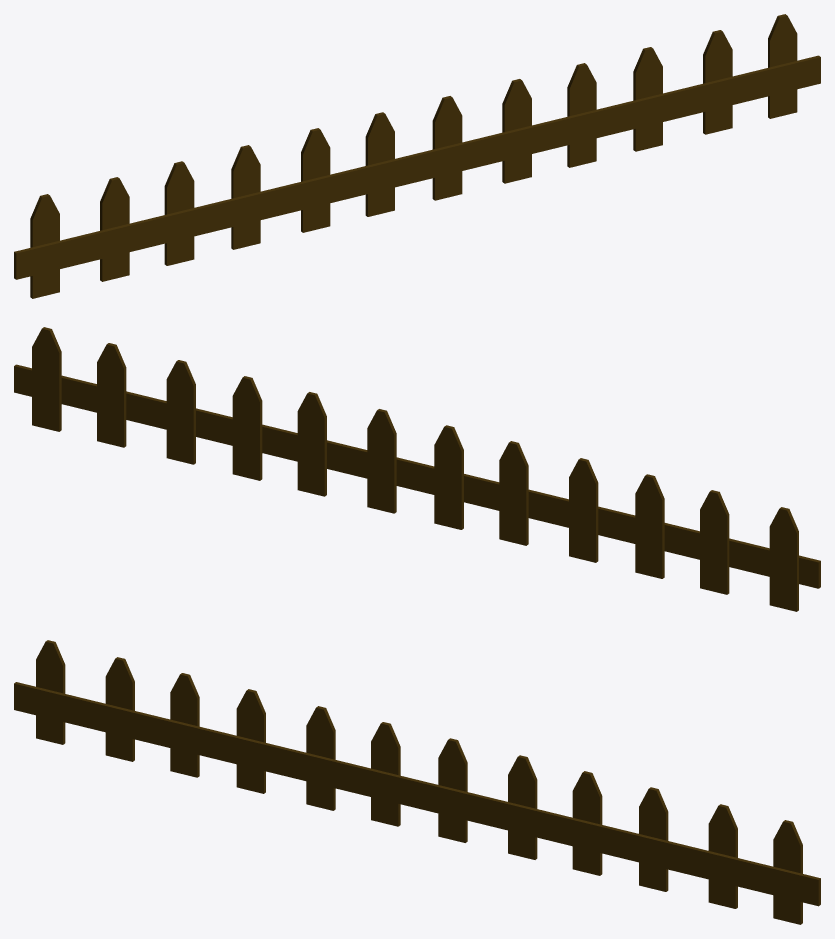
Rendered from Fencepieces.fbx.
3 views of the same model, one above another, from view 1: azimuth 30°, elevation 25°; view 2: azimuth 150°, elevation 25°; view 3: azimuth 330°, elevation 25° (orthographic).
Parts seen in each view (by area): view 1: doorpanel12 (×4), doorpanel15 (×4), doorpanel13 (×4), doorpanel14 (×4); view 2: doorpanel12 (×4), doorpanel13 (×4), doorpanel14 (×4), doorpanel15 (×4); view 3: doorpanel12 (×4), doorpanel13 (×4), doorpanel14 (×4), doorpanel15 (×4).
Boxes of the visible parts, left/top/right/bottom form: doorpanel12 (×4): left=14, top=55, right=820, bottom=279; doorpanel15 (×4): left=30, top=47, right=662, bottom=298; doorpanel13 (×4): left=164, top=14, right=797, bottom=265; doorpanel14 (×4): left=100, top=30, right=732, bottom=281; doorpanel12 (×4): left=14, top=364, right=820, bottom=588; doorpanel13 (×4): left=32, top=327, right=664, bottom=578; doorpanel14 (×4): left=97, top=343, right=729, bottom=594; doorpanel15 (×4): left=166, top=360, right=798, bottom=611; doorpanel12 (×4): left=14, top=682, right=820, bottom=906; doorpanel13 (×4): left=170, top=673, right=802, bottom=924; doorpanel14 (×4): left=105, top=657, right=737, bottom=908; doorpanel15 (×4): left=36, top=640, right=668, bottom=891.
Size of the model in its own units: 31.9 by 3.75 by 0.3451.
